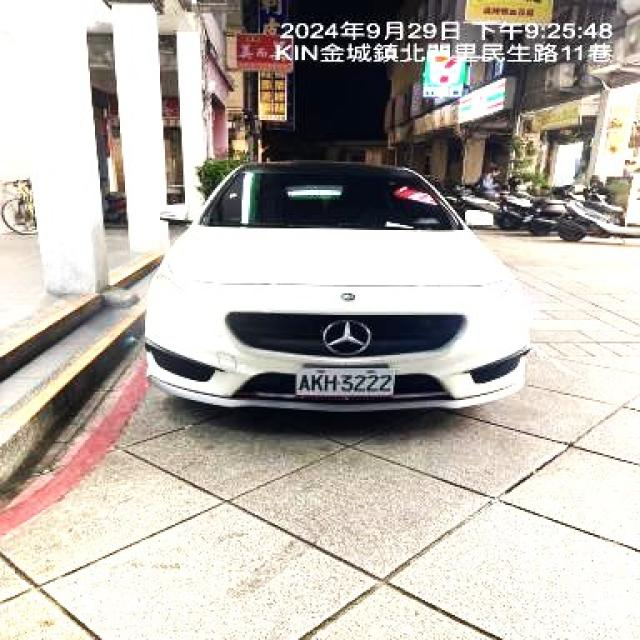Legalparking: (150, 114, 552, 469)
